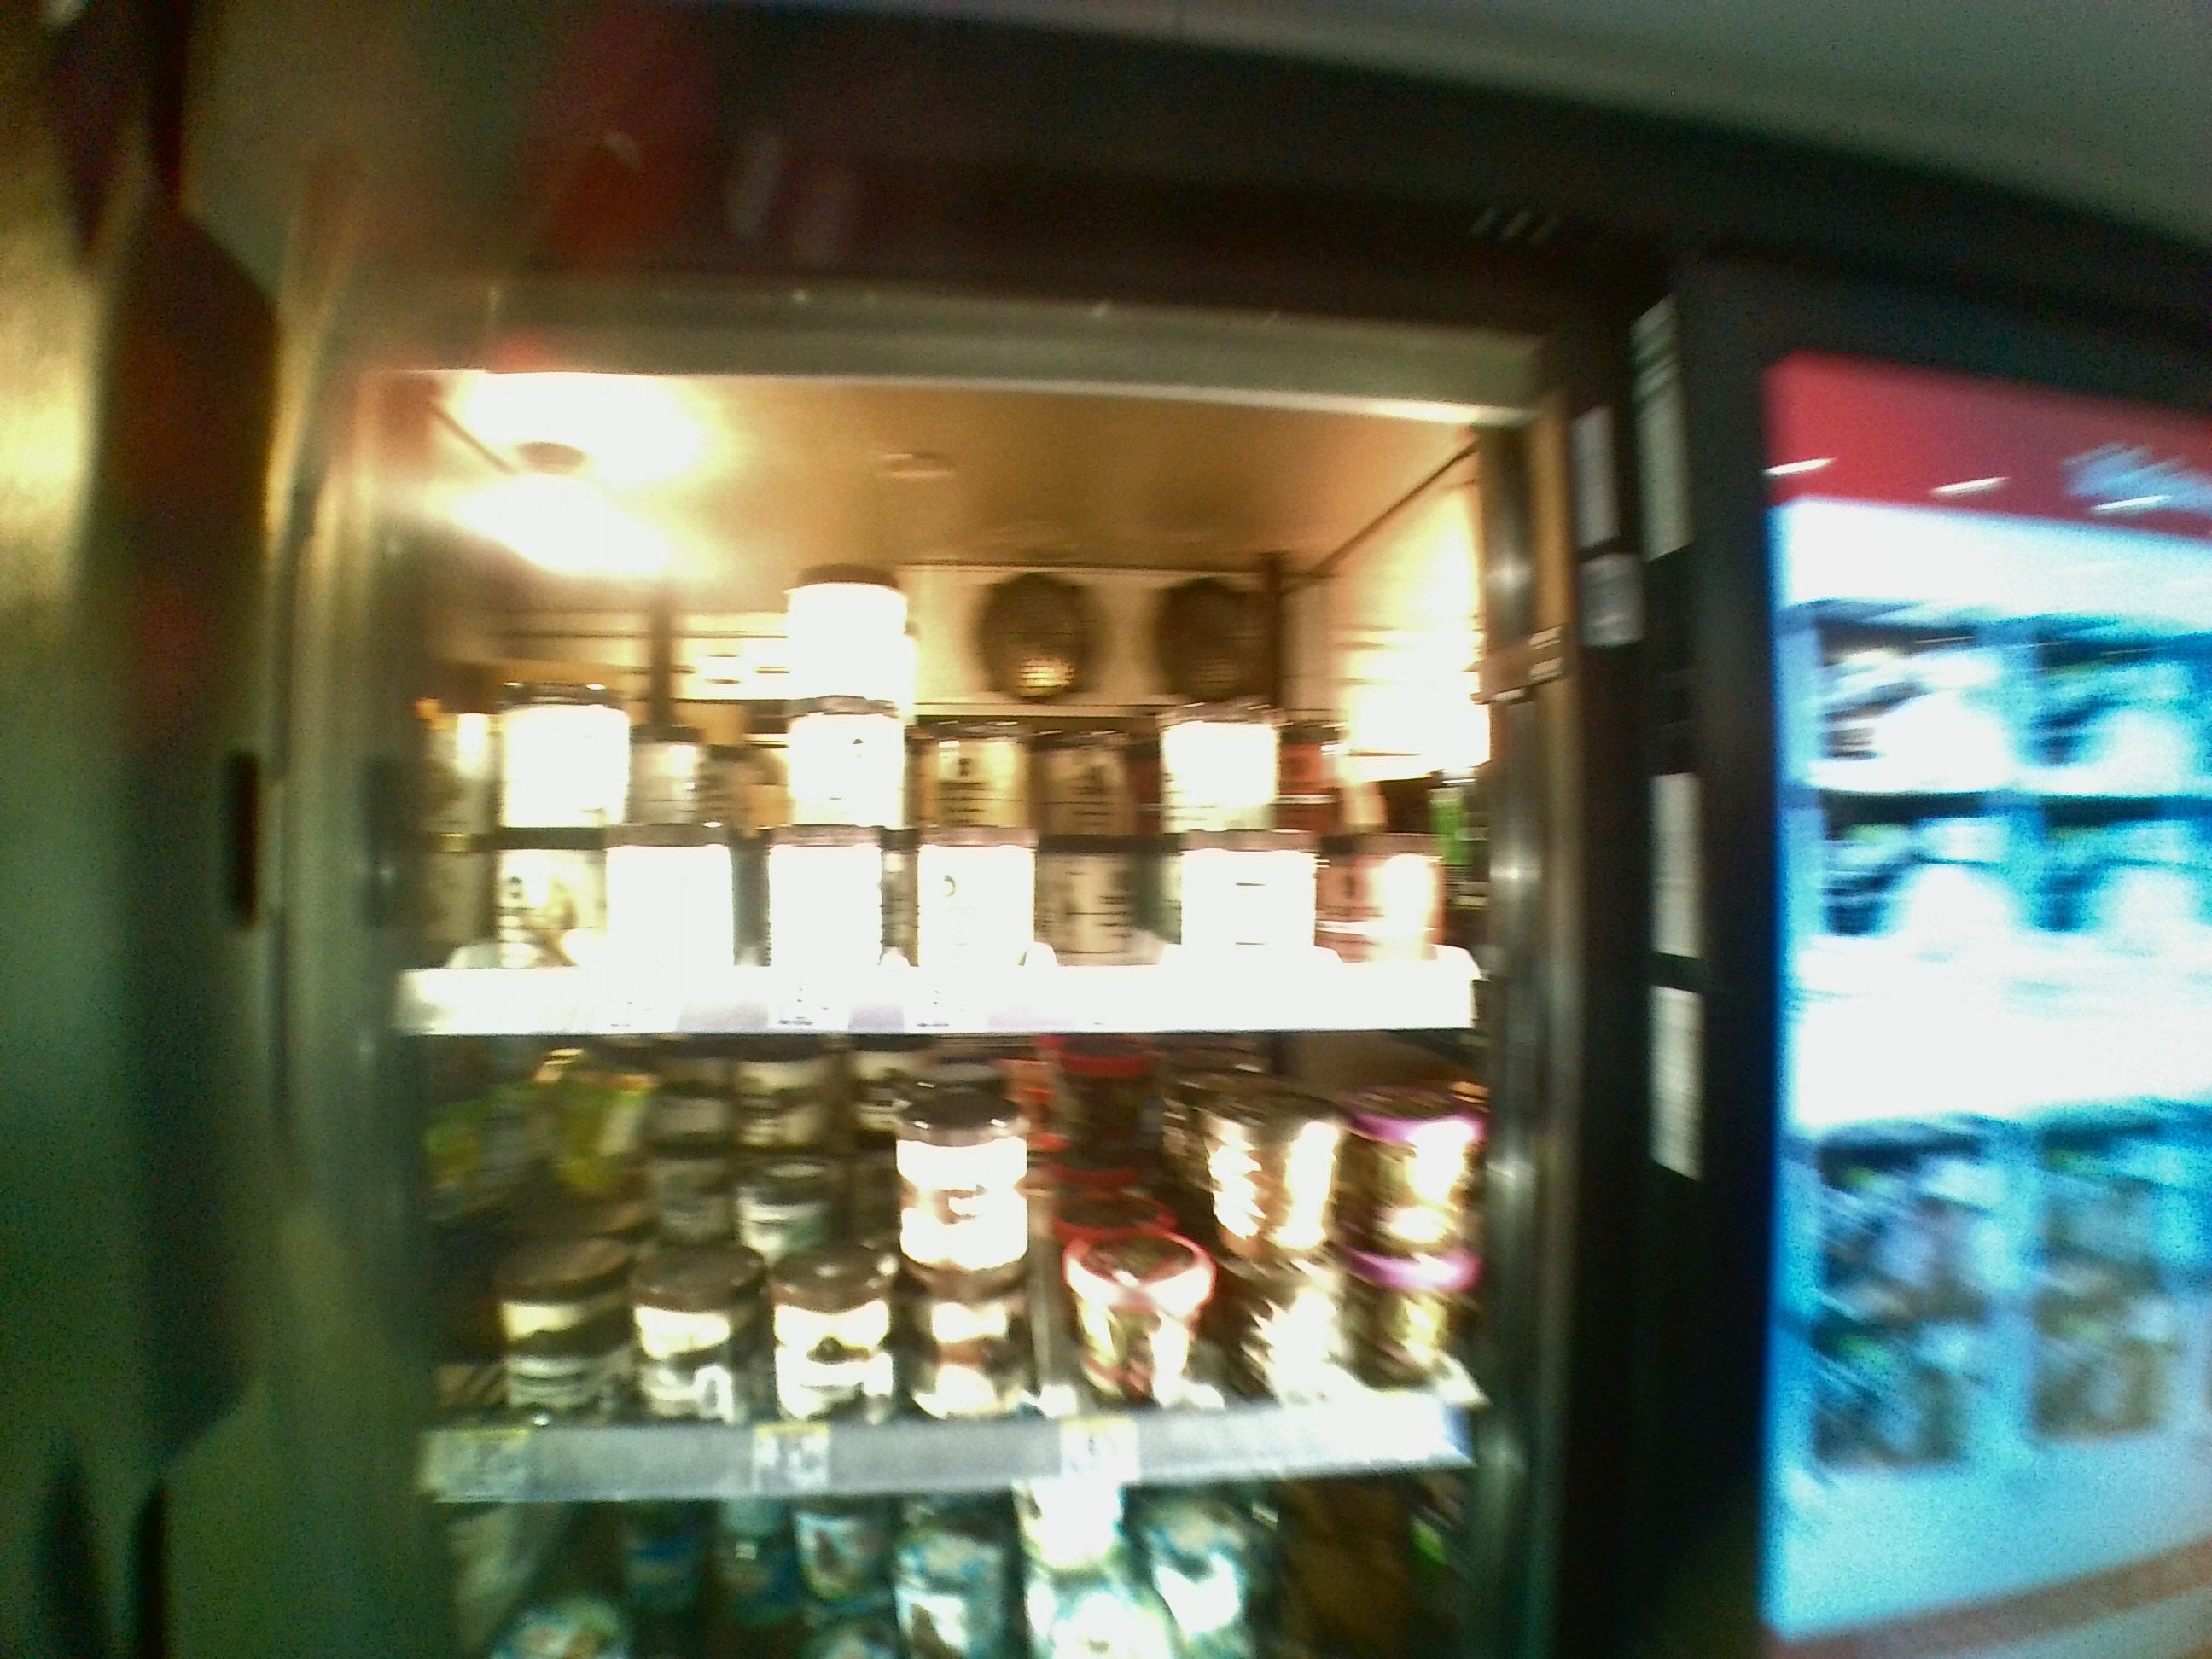shelf: (371, 425, 1489, 1033), (383, 1047, 1493, 1504)
